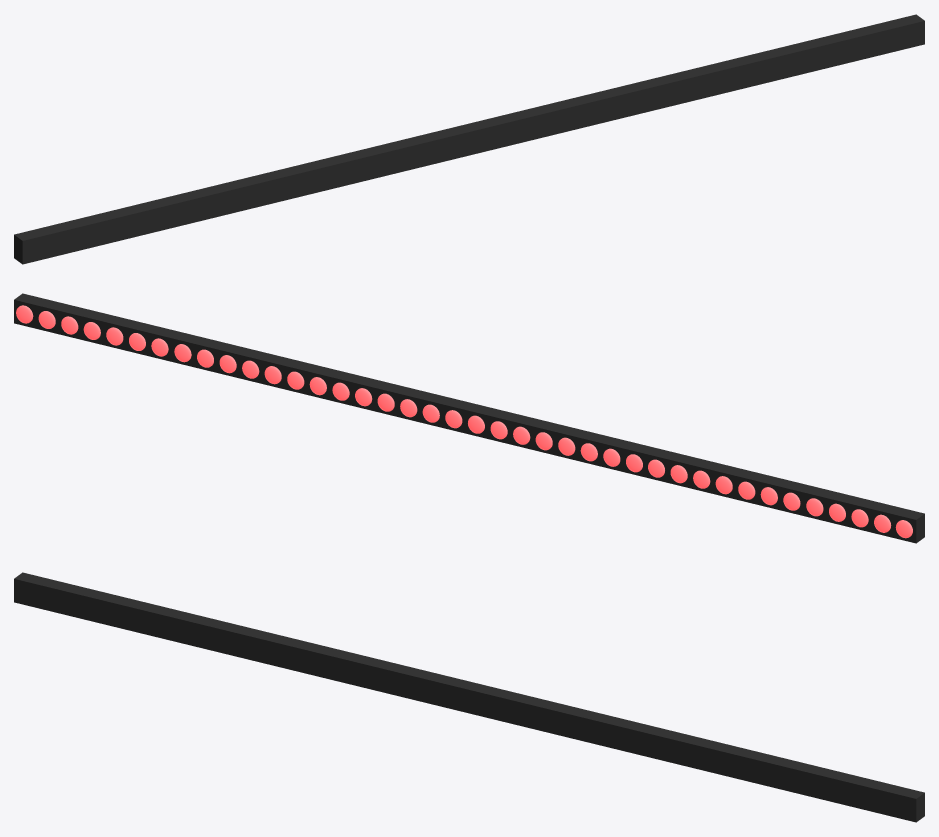
The model's file is light_box_red.glb.
3 renders of one model, top to bottom at view 1: azimuth 30°, elevation 25°; view 2: azimuth 150°, elevation 25°; view 3: azimuth 330°, elevation 25°, orthographic.
Visible parts, largest first — view 1: Cube; view 2: Cube, GameObject; view 3: Cube.
Boxes of the visible parts, left/top/right/bottom form: Cube: left=14, top=14, right=924, bottom=264; Cube: left=14, top=293, right=924, bottom=543; GameObject: left=16, top=305, right=168, bottom=356; Cube: left=14, top=572, right=924, bottom=822.
Bounding box in the file's own units: 6 × 0.15 × 0.1212.
